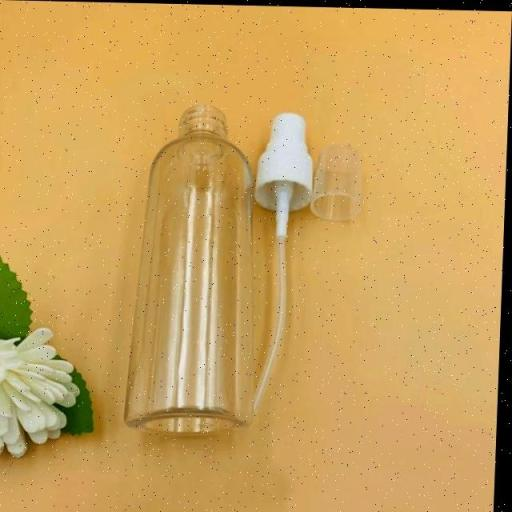plastic: (125, 93, 267, 447)
